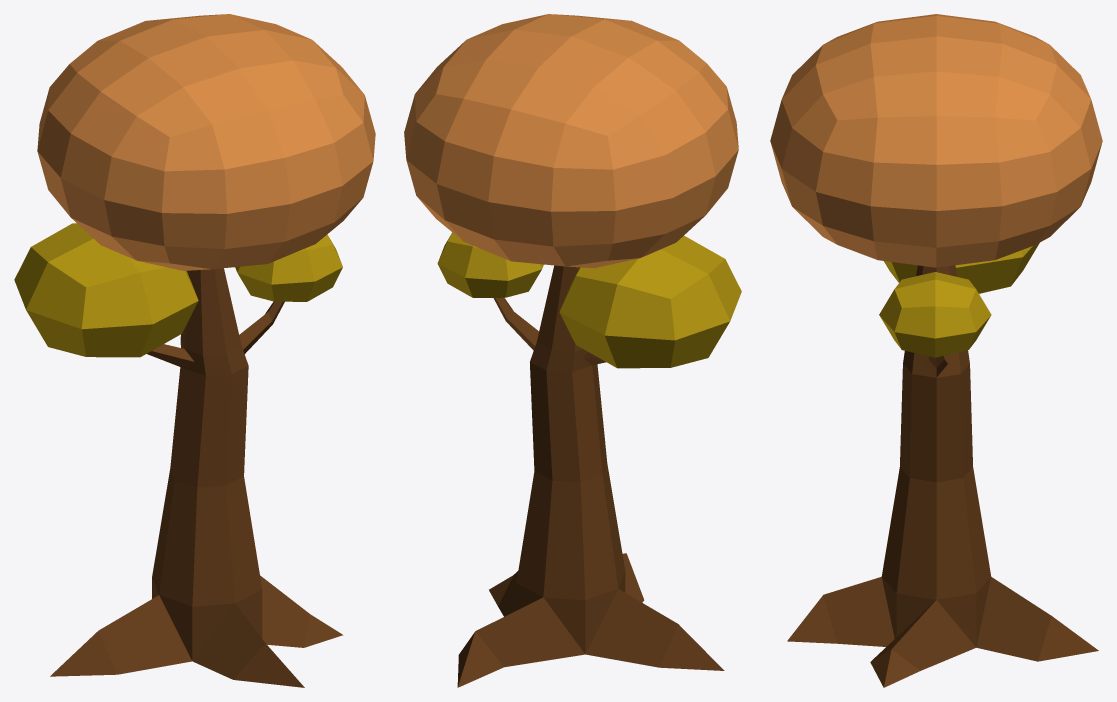
The model's file is tree_2.fbx.
3 views of the same model, side by side, from view 1: azimuth 30°, elevation 25°; view 2: azimuth 150°, elevation 25°; view 3: azimuth 270°, elevation 25° (orthographic).
Parts seen in each view (by area): view 1: Cube.001, Cube, Cube.003, Cube.002; view 2: Cube.001, Cube, Cube.003, Cube.002; view 3: Cube.001, Cube, Cube.002, Cube.003.
Part boxes in pixels (x1,y1,x2,y2): Cube.001: (37, 14, 375, 270); Cube: (50, 268, 343, 687); Cube.003: (14, 223, 198, 357); Cube.002: (235, 234, 342, 301); Cube.001: (404, 14, 738, 268); Cube: (457, 265, 724, 687); Cube.003: (559, 235, 741, 368); Cube.002: (437, 232, 543, 297); Cube.001: (770, 14, 1102, 267); Cube: (787, 265, 1098, 687); Cube.002: (879, 272, 991, 357); Cube.003: (884, 242, 1039, 293).
Size of the model in its own units: 603 by 1105 by 556.
